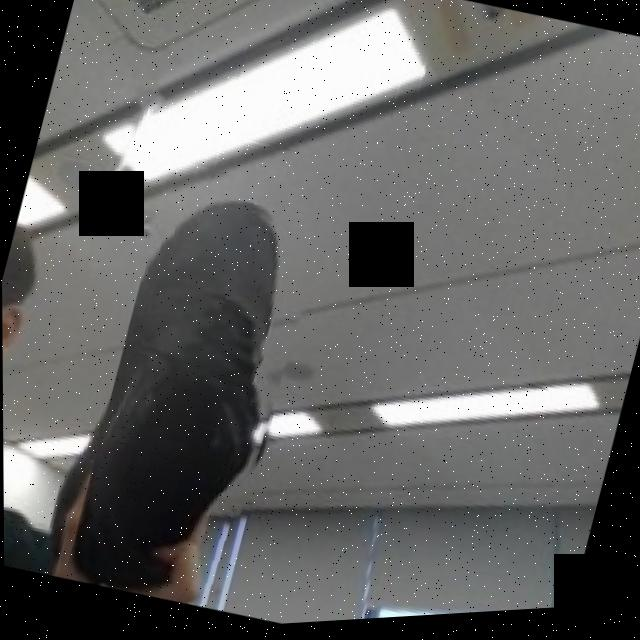shoe: (60, 152, 339, 623)
